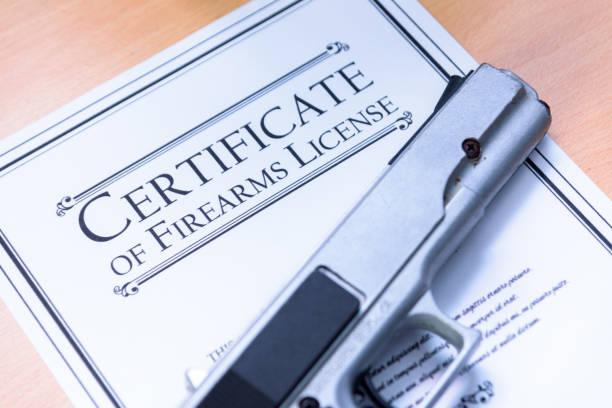weapon: (181, 59, 551, 408)
